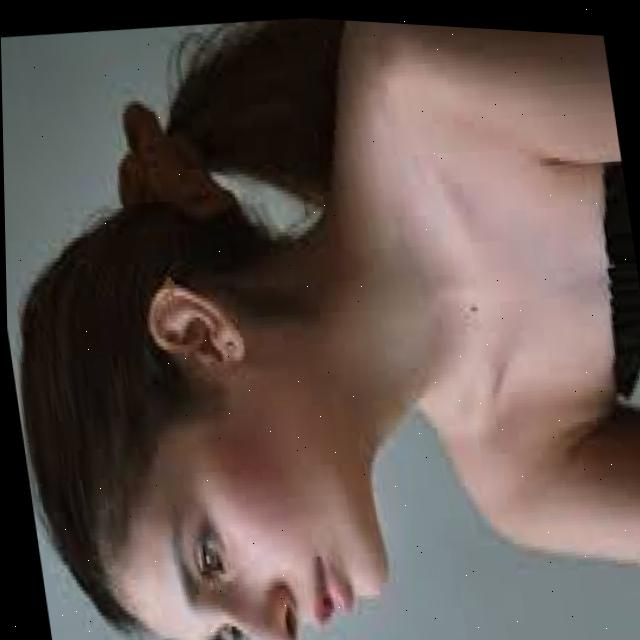natural: (139, 370, 409, 640)
